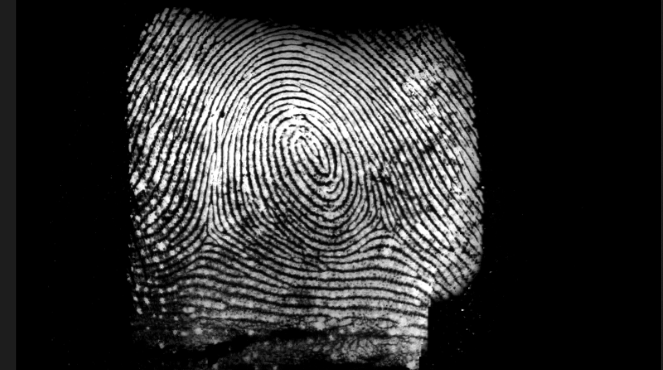nucelo: (285, 124, 325, 168)
verticilo: (366, 207, 403, 239), (191, 219, 228, 247)
